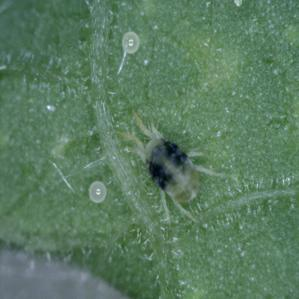spider mite: (84, 103, 218, 224)
